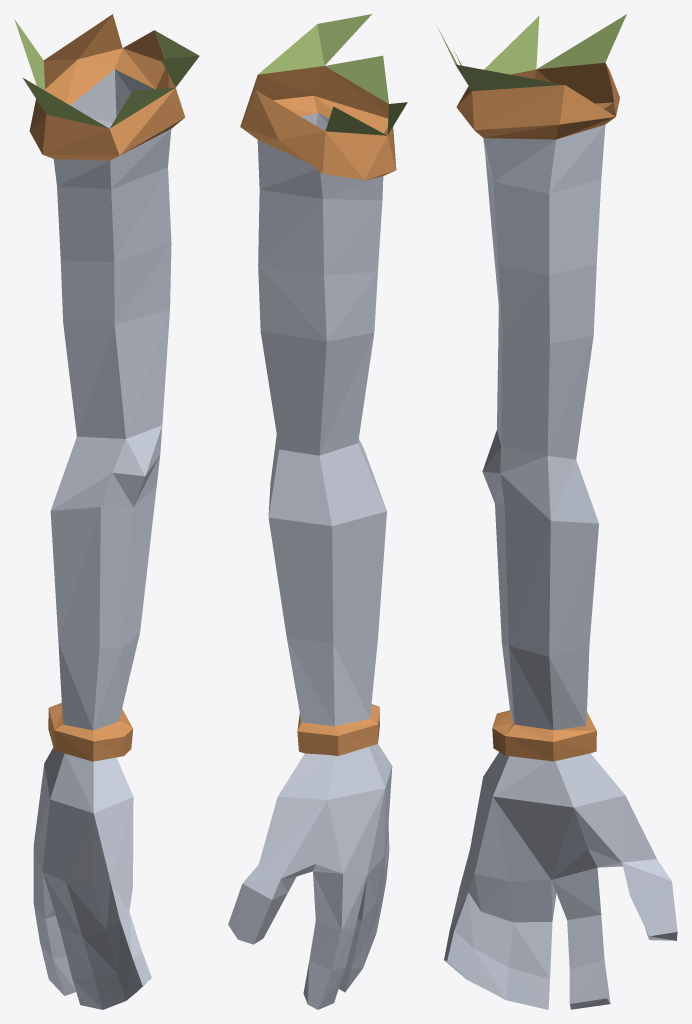
Rendered from ArmL.obj.
3 views of the same model, side by side, from view 1: azimuth 30°, elevation 25°; view 2: azimuth 150°, elevation 25°; view 3: azimuth 270°, elevation 25° (orthographic). The views are drawn at different scales.
Bounding box in the file's own units: 0.1419 × 0.8566 × 0.1878.
Materials: 1 (1 with a texture image).
